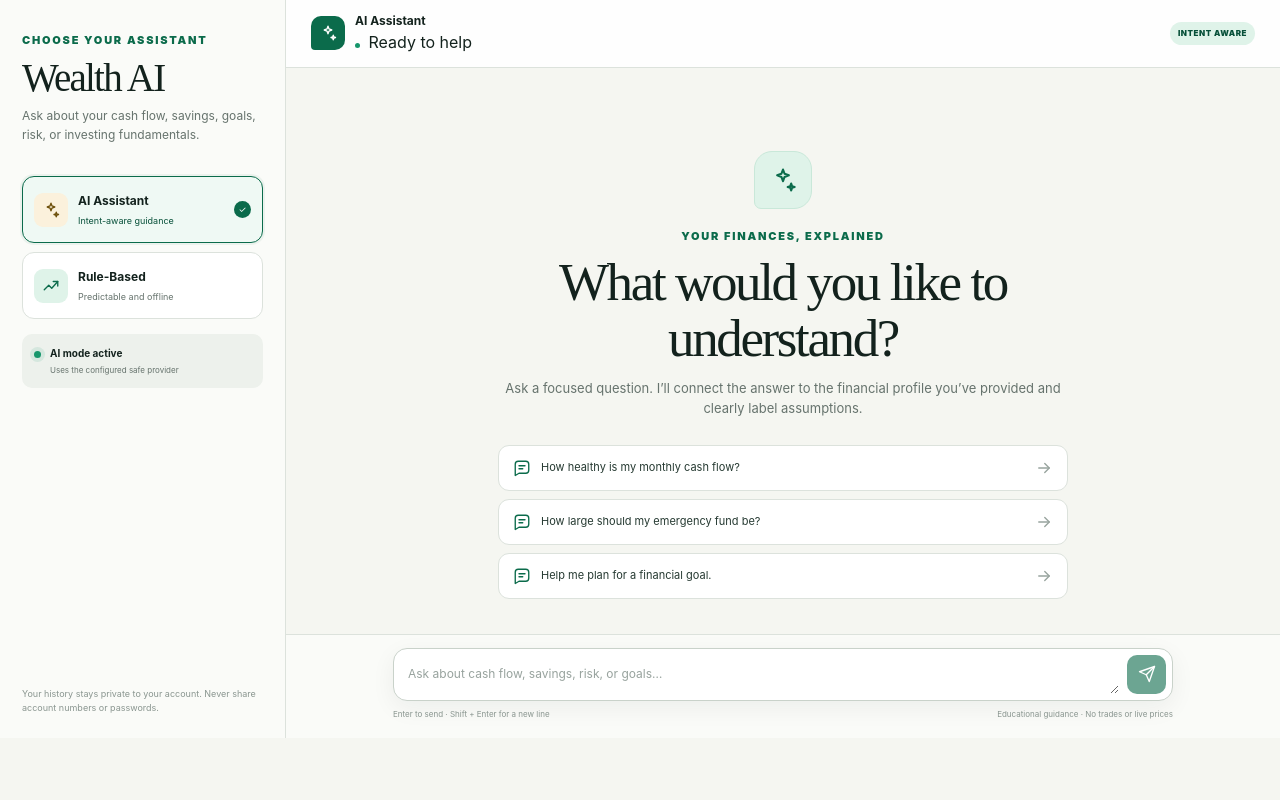
Test: ChatPage › switches assistant modes and uses a suggested prompt
The width and height of the screenshot is (1280, 800).
Step 1. Click the radio button labelled "Rule-Based Predictable and offline" → (142, 286), box [22,252,263,320]
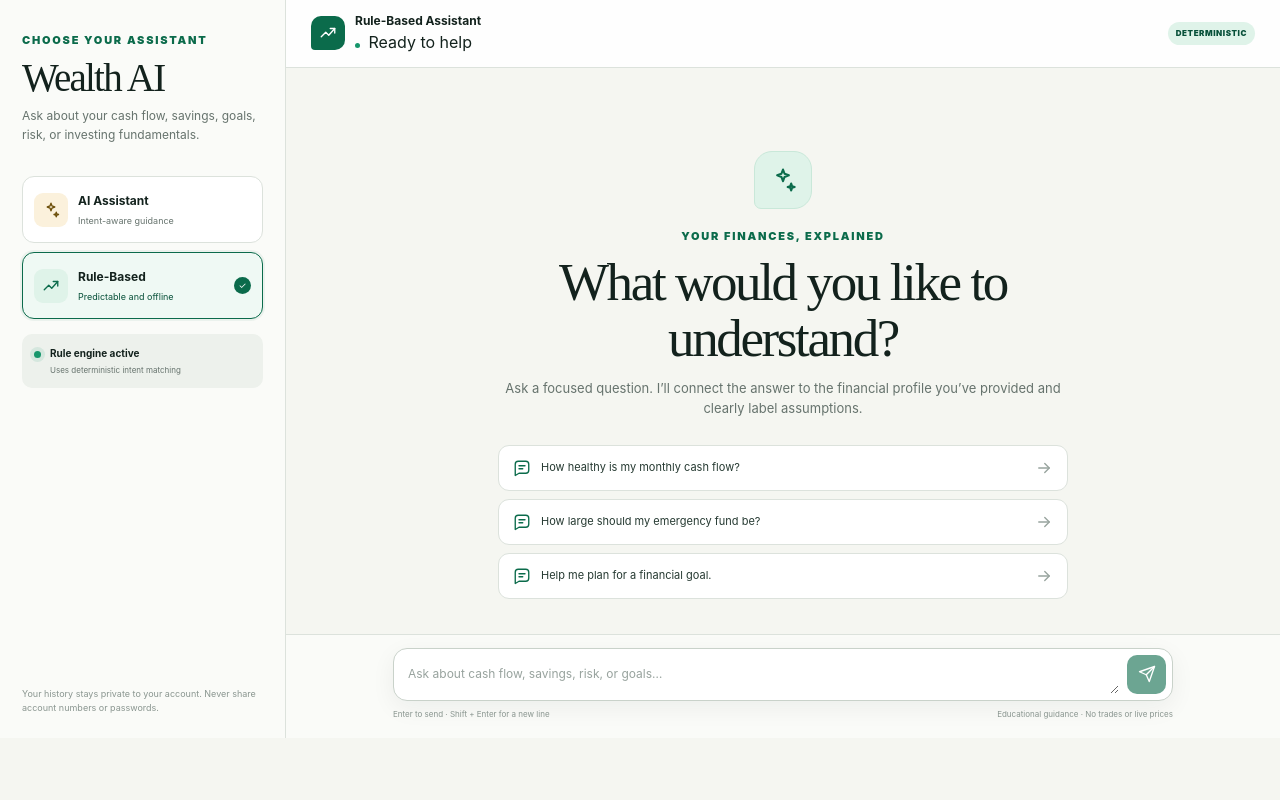
Now the text "Rule engine active" is shown, box [50,348,139,360]
Step 2. Click the button "How healthy is my monthly cash flow?" → (640, 467), box [498,445,1068,491]
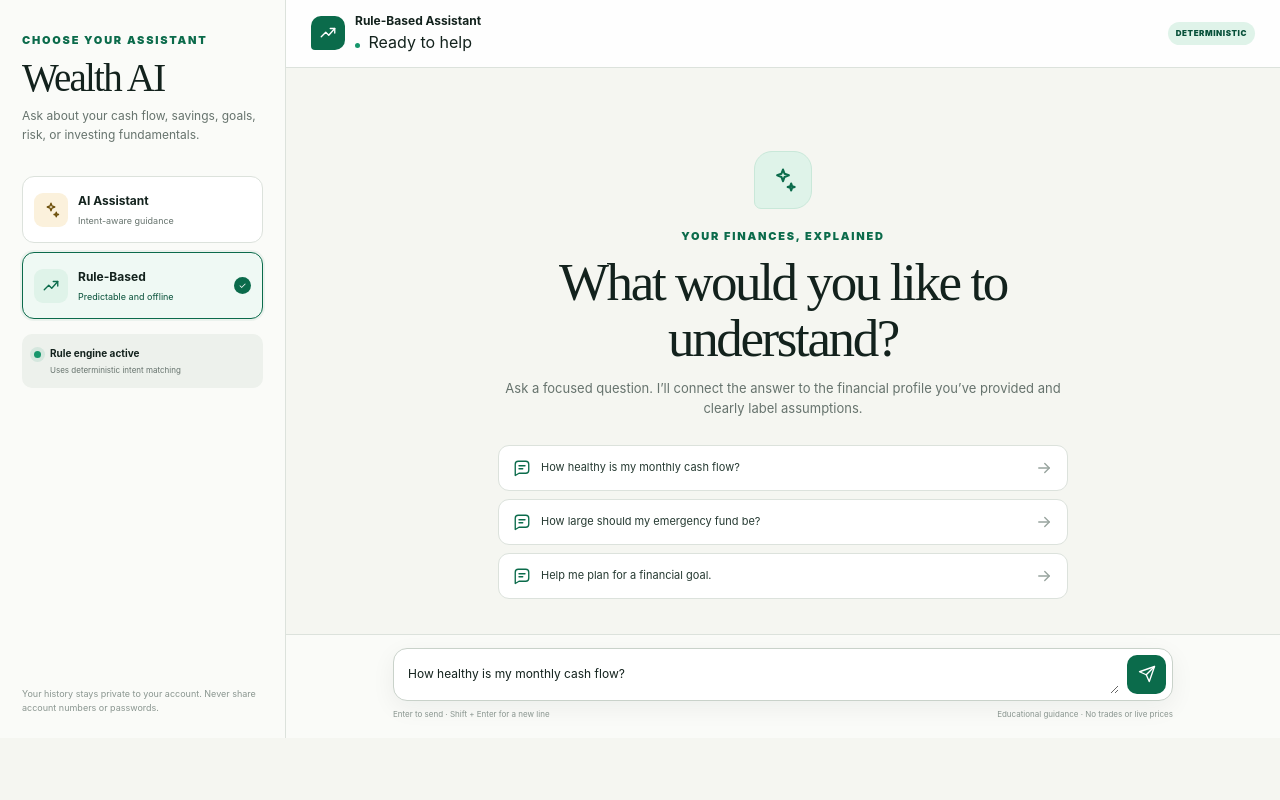
Now the text box named "Your finance question" holds "How healthy is my monthly cash flow?", box [408,656,1119,694]
